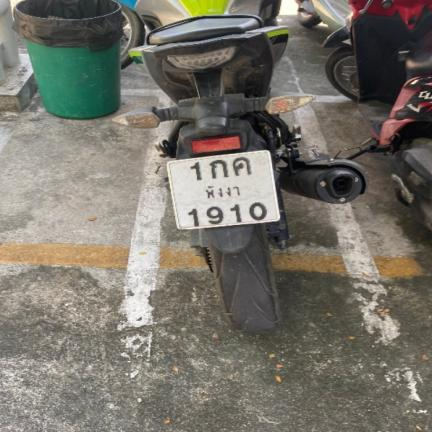0: (247, 201, 271, 221)
1: (185, 160, 203, 181), (227, 203, 246, 222), (186, 207, 202, 227)
9: (204, 205, 225, 224)
A01: (207, 160, 229, 179)
A04: (230, 156, 253, 175)
PNA: (203, 184, 241, 199)
